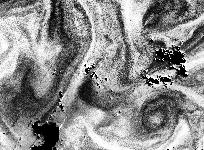CE: (131, 85, 193, 138)
